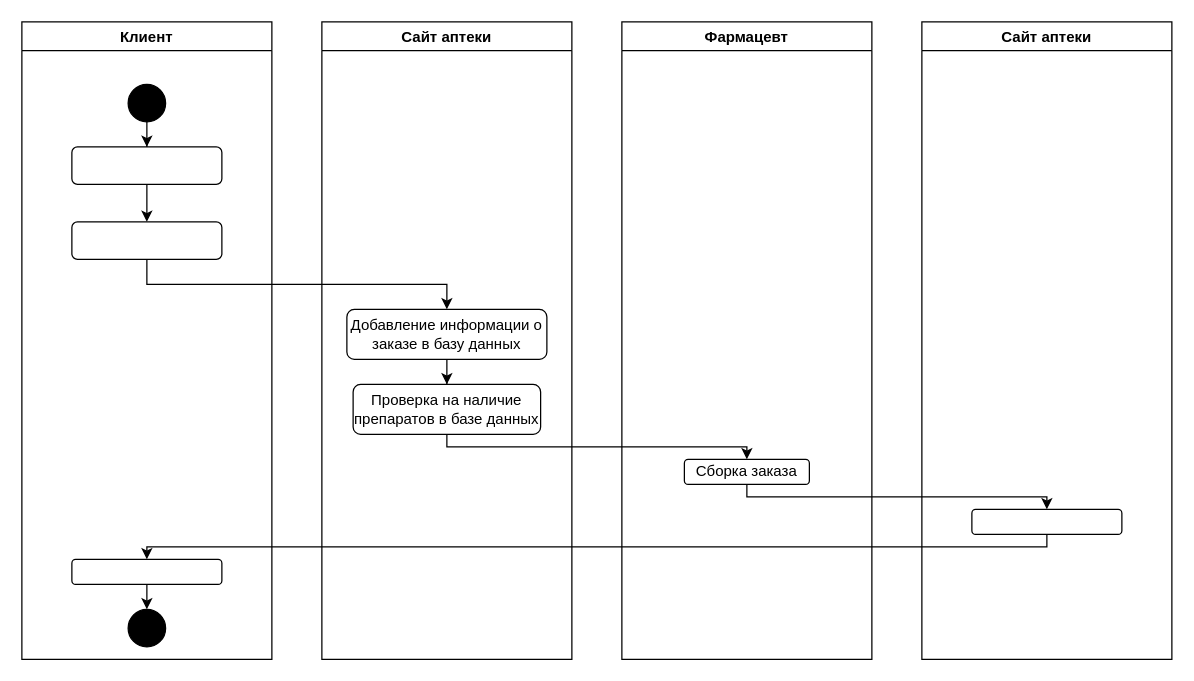
Some shapes in this 1194 by 681 pixel diagram are drawn without their labels. Here are the shapes that lost their labels. From the top down, the centre of each, then its label:
At (x=146, y=165): "Оформление заказа".
At (x=146, y=240): "Оплата заказа".
At (x=1046, y=521): "Доставка заказа".
At (x=146, y=571): "Получение заказа".
